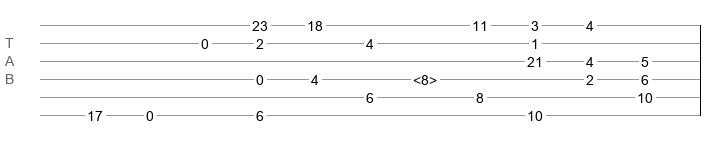0: (146, 108, 154, 118), (201, 36, 209, 46), (256, 72, 264, 82)
1: (531, 36, 539, 46)
10: (527, 108, 543, 118), (637, 90, 653, 100)
11: (472, 18, 488, 28)
17: (87, 108, 103, 118)
18: (307, 18, 323, 28)
2: (256, 36, 264, 46), (586, 72, 594, 82)
21: (527, 54, 543, 64)
23: (252, 18, 268, 28)
3: (531, 18, 539, 28)
4: (311, 72, 319, 82), (366, 36, 374, 46), (586, 54, 594, 64), (586, 18, 594, 28)
5: (641, 54, 649, 64)
6: (256, 108, 264, 118), (366, 90, 374, 100), (641, 72, 649, 82)
8: (476, 90, 484, 100)
harmonic: (413, 72, 437, 82)
